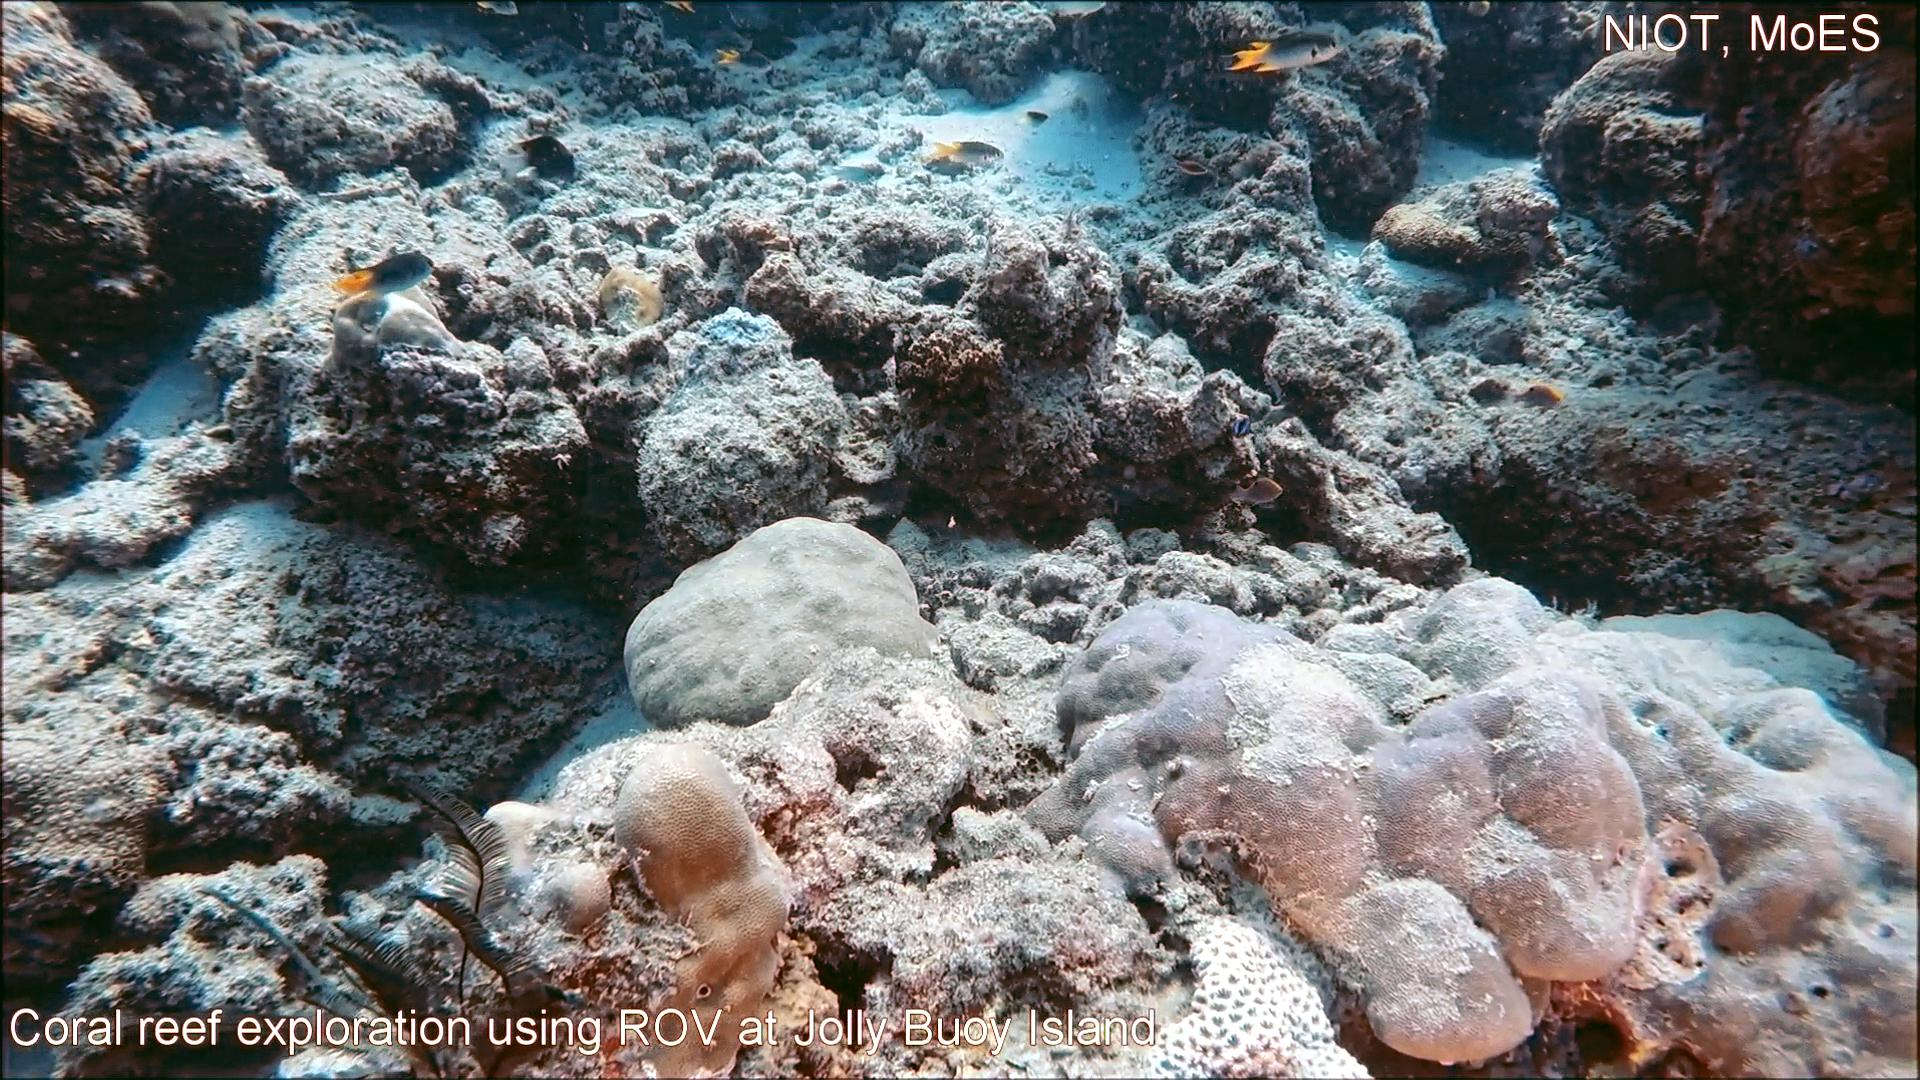Feather star-Crinoid star: (190, 767, 608, 1080)
Goniastrea-Goniastrea pectinata: (1141, 906, 1383, 1080)
Porites-Porites pukoensis: (1490, 556, 1920, 1080)
Turbinaria-Turbinaria stellulata: (0, 721, 185, 989)
